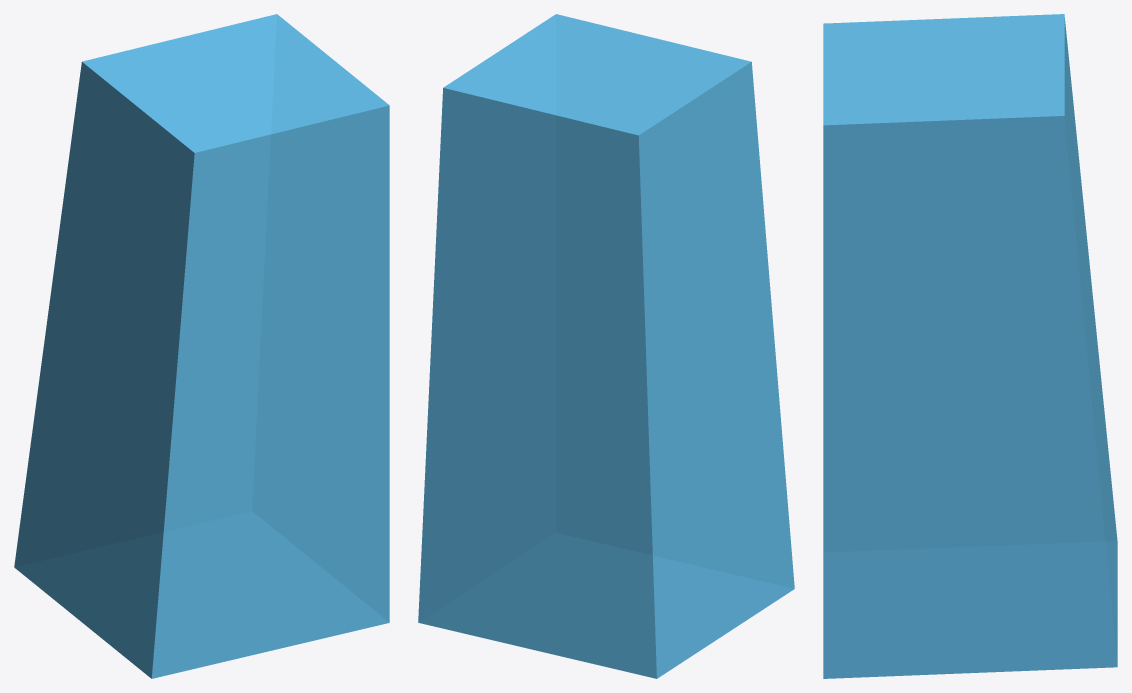
The model's file is Event_421115418_HBrechit_0.fbx.
3 renders of one model, left to right at view 1: azimuth 30°, elevation 25°; view 2: azimuth 150°, elevation 25°; view 3: azimuth 270°, elevation 25°, orthographic. The views are drawn at different scales.
Parts seen in each view (by area): view 1: Model; view 2: Model; view 3: Model.
Boxes of the visible parts, bbox=[...] form: Model: bbox=[14, 14, 389, 678]; Model: bbox=[418, 14, 794, 678]; Model: bbox=[823, 14, 1117, 678].
Bounding box in the file's own units: 0.4893 × 1.03 × 0.4898.
